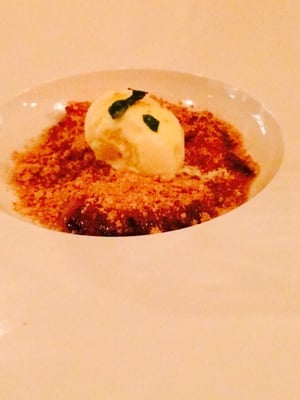curry: (2, 12, 298, 398)
sandwich: (2, 85, 266, 238)
sushi: (4, 87, 263, 237)
